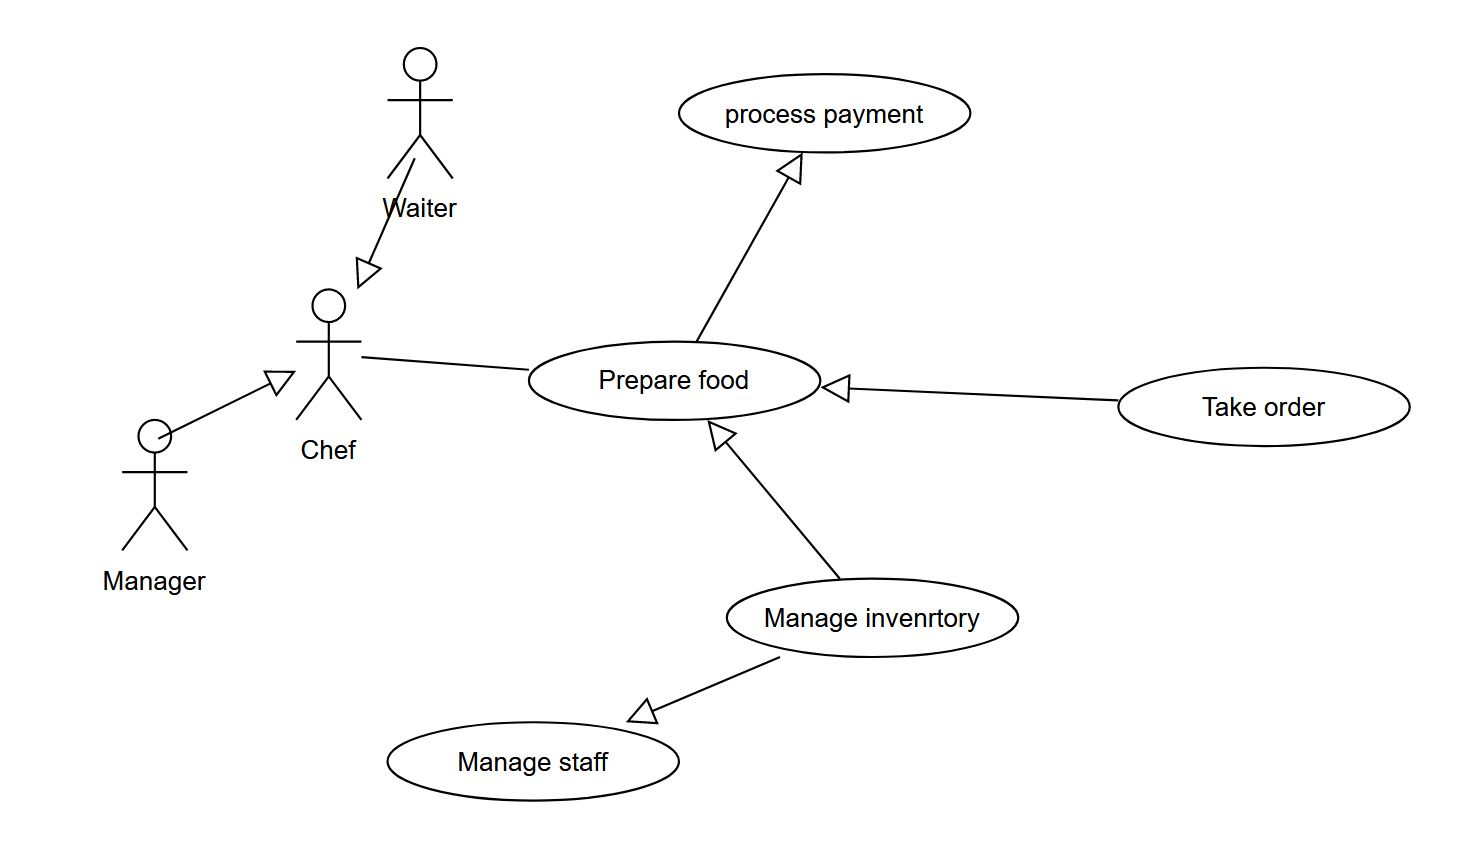actor: (383, 44, 456, 184), (296, 287, 362, 425), (118, 420, 188, 550)
association: (359, 351, 530, 378)
generalization: (705, 417, 839, 574), (698, 151, 805, 340), (823, 372, 1119, 422), (629, 654, 785, 724), (160, 369, 296, 440), (358, 159, 420, 287)
text: (756, 602, 980, 637), (716, 100, 925, 131), (1193, 389, 1333, 427), (451, 747, 610, 778), (96, 563, 216, 598), (596, 371, 752, 394), (381, 193, 459, 220), (298, 434, 361, 467)
use_case: (678, 70, 971, 153), (1118, 365, 1411, 447), (386, 722, 681, 803), (525, 341, 821, 421), (723, 578, 1021, 654)
